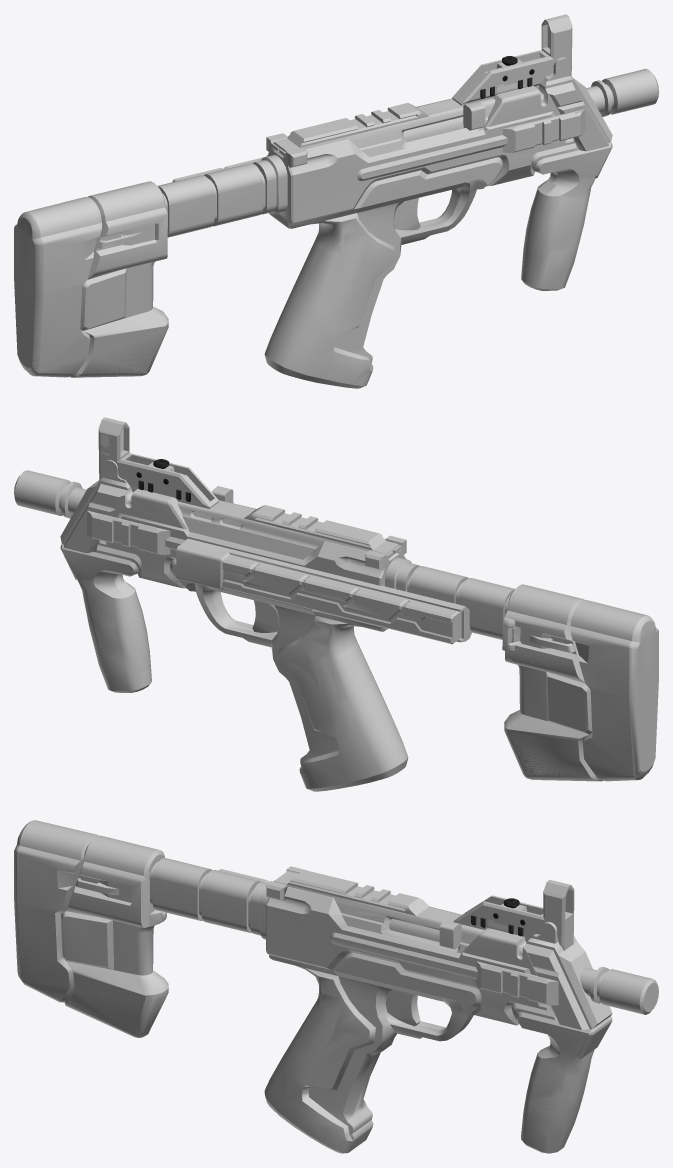
File: M7T_3rdP_Rigged.fbx
3 renders of one model, top to bottom at view 1: azimuth 30°, elevation 25°; view 2: azimuth 150°, elevation 25°; view 3: azimuth 330°, elevation 25°, orthographic.
Parts seen in each view (by area): view 1: MainBody; view 2: MainBody, Magazine1; view 3: MainBody.
Part boxes in pixels (x1=…): MainBody: x1=14, y1=14, x2=658, y2=388; MainBody: x1=14, y1=417, x2=658, y2=791; Magazine1: x1=222, y1=554, x2=461, y2=644; MainBody: x1=14, y1=820, x2=658, y2=1153.
Bounding box in the file's own units: 53.84 × 25.76 × 6.29.
